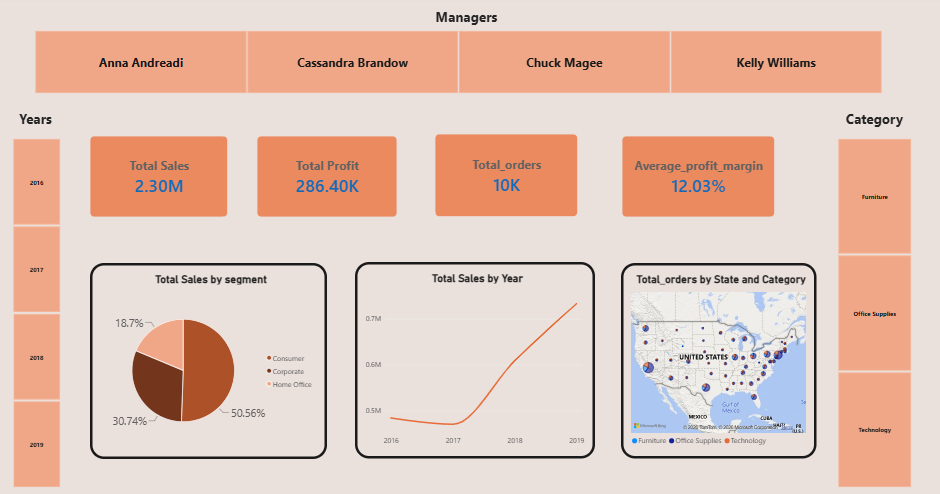

This screenshot's page, from the dashboard's own definition file:
{"tool":"powerbi","page":{"name":"Page 1","canvas":[1920,1080],"ordinal":0},"visuals":[{"type":"slicer","fields":{"Values":["People.Mangers"]},"box":[62,74,1732,128],"z":0},{"type":"textbox","box":[784,28,322,46],"z":1000},{"type":"slicer","fields":{"Values":["Orders.Years"]},"box":[17.5,290,132.5,700],"z":2000},{"type":"textbox","box":[2.5,232.5,162.5,57.5],"z":3000},{"type":"slicer","fields":{"Values":["Orders.Category"]},"box":[1667.5,290,185,700],"z":4000},{"type":"textbox","box":[1685,232.5,150,67.5],"z":5000},{"type":"cardVisual","fields":{"Data":["([measures]).Total Sales"]},"box":[192.5,285,275,162.5],"z":6000},{"type":"cardVisual","fields":{"Data":["([measures]).Total Profit"]},"box":[525,285,280,162.5],"z":7000},{"type":"cardVisual","fields":{"Data":["([measures]).Total_orders"]},"box":[882.5,282.5,285,165],"z":8000},{"type":"cardVisual","fields":{"Data":["([measures]).Average_profit_margin"]},"box":[1255,285,305,162.5],"z":9000},{"type":"pieChart","title":"Total Sales by segment","fields":{"Category":["Orders.Segment"],"Y":["([measures]).Total Sales"]},"box":[192,540,474,392],"z":10000},{"type":"lineChart","fields":{"Category":["Orders.Order Date.Variation.Date Hierarchy.Year","Orders.Order Date.Variation.Date Hierarchy.Quarter","Orders.Order Date.Variation.Date Hierarchy.Month","Orders.Order Date.Variation.Date Hierarchy.Day"],"Y":["([measures]).Total Sales"]},"box":[722.5,537.5,480,392.5],"z":11000},{"type":"map","fields":{"Category":["Orders.State"],"Series":["Orders.Category"],"Size":["([measures]).Total_orders"]},"box":[1254.8,539.2,390.6,390.6],"z":12000}]}

Visuals, with their boxes on the page's 1920x1080 design canvas (x1, y1, x2, y2). These are canvas units, not pixel positions in the 940x494 screenshot, which may show the page scaled, cropped or inside an application window:
slicer - People.Mangers: (62, 74, 1794, 202)
textbox: (784, 28, 1106, 74)
slicer - Orders.Years: (18, 290, 150, 990)
textbox: (2, 232, 165, 290)
slicer - Orders.Category: (1668, 290, 1852, 990)
textbox: (1685, 232, 1835, 300)
cardVisual - ([measures]).Total Sales: (192, 285, 468, 448)
cardVisual - ([measures]).Total Profit: (525, 285, 805, 448)
cardVisual - ([measures]).Total_orders: (882, 282, 1168, 448)
cardVisual - ([measures]).Average_profit_margin: (1255, 285, 1560, 448)
"Total Sales by segment" pieChart: (192, 540, 666, 932)
lineChart - Orders.Order Date.Variation.Date Hierarchy.Year x Orders.Order Date.Variation.Date Hierarchy.Quarter: (722, 538, 1202, 930)
map - Orders.State x Orders.Category: (1255, 539, 1645, 930)
